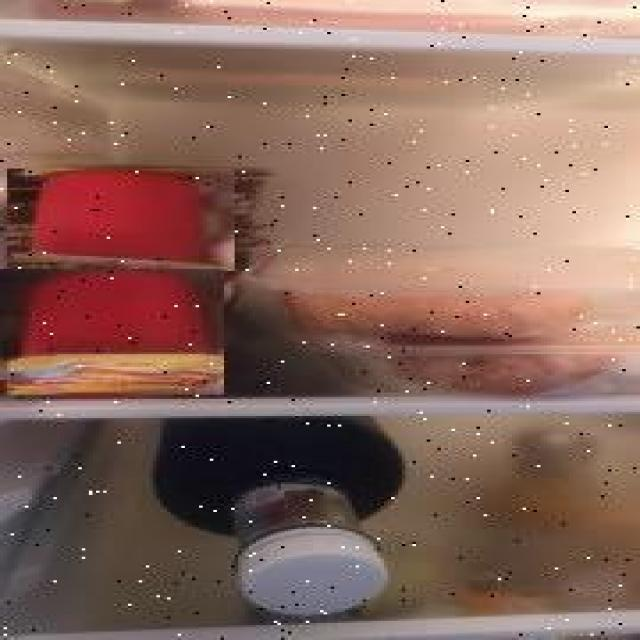yogurt: (0, 268, 224, 394), (7, 168, 235, 271)
